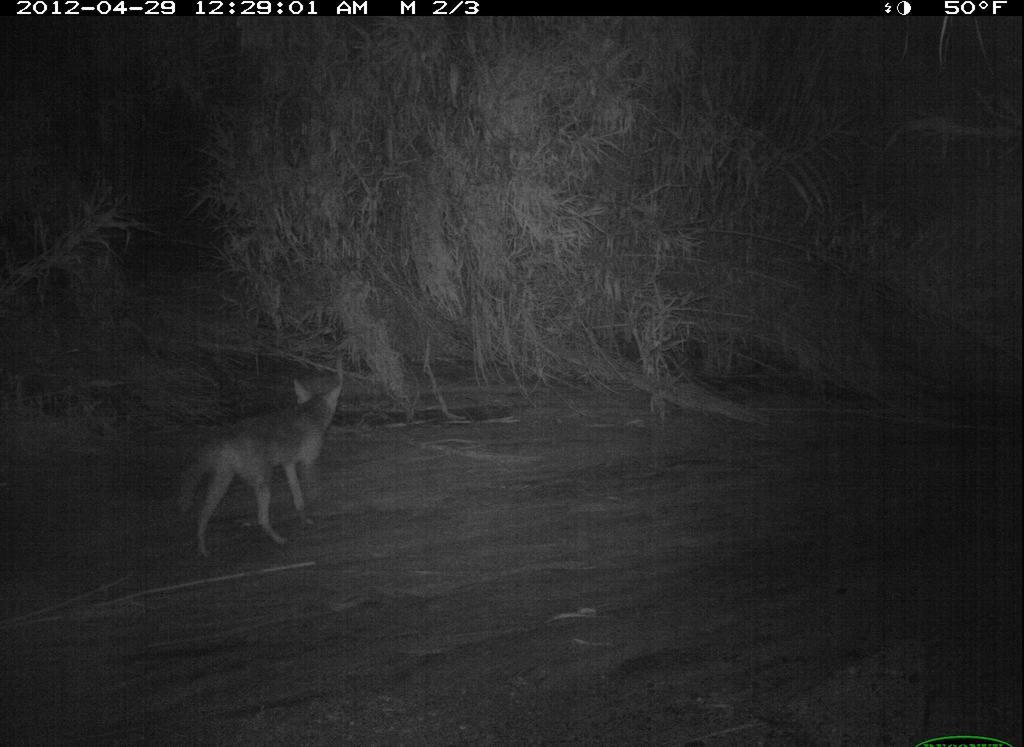coyote: (163, 350, 359, 562)
